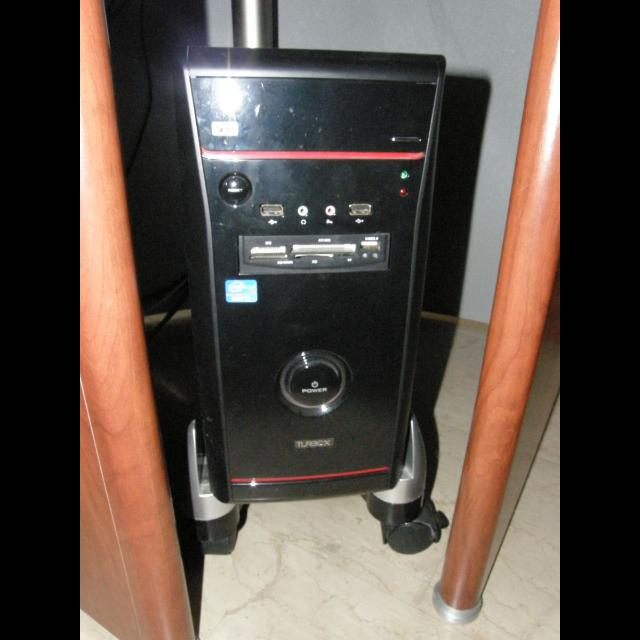Desktop-PC: (184, 46, 442, 540)
